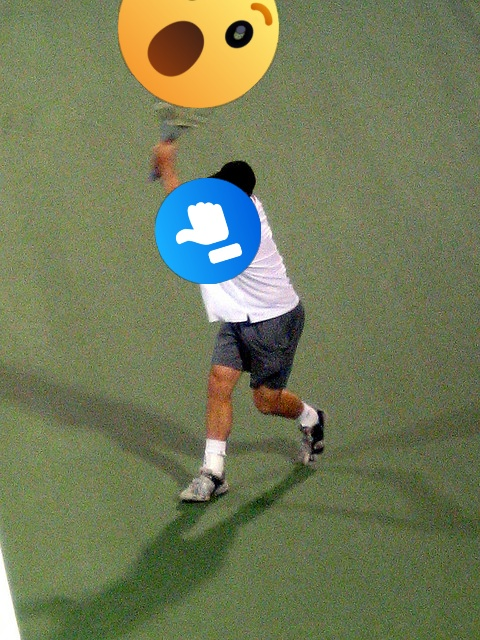like: (155, 178, 261, 284)
wow: (118, 0, 279, 108)
